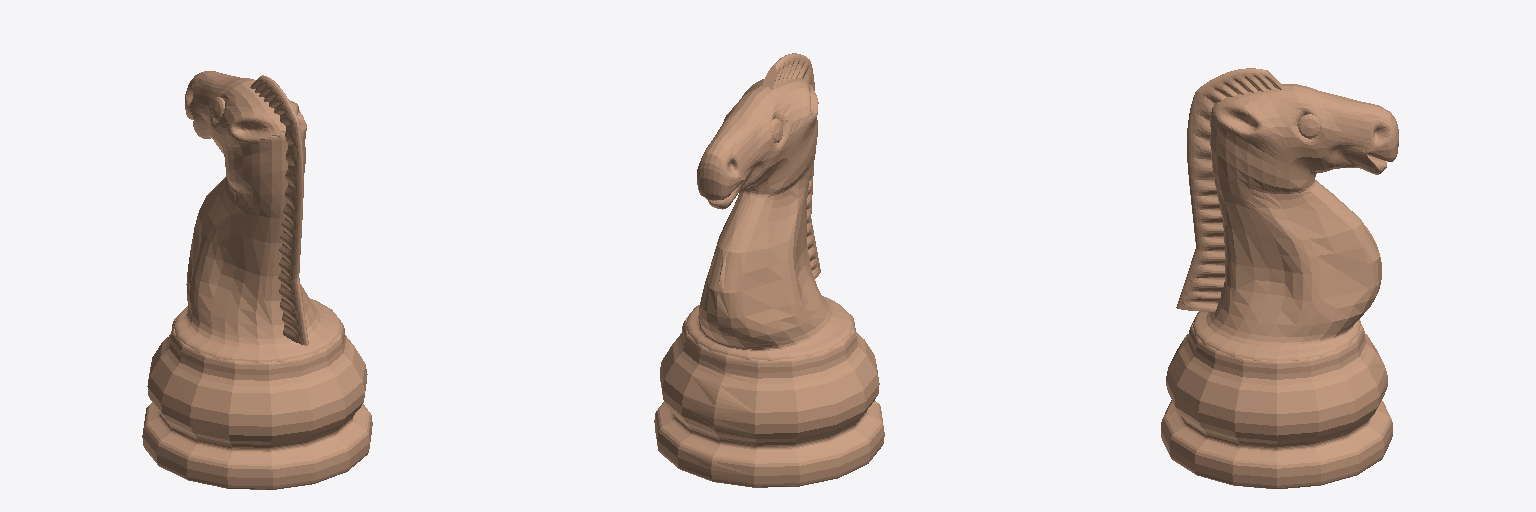
Rendered from caballoB_ficha.obj.
3 views of the same model, side by side, from view 1: azimuth 30°, elevation 25°; view 2: azimuth 150°, elevation 25°; view 3: azimuth 270°, elevation 25° (orthographic).
Parts seen in each view (by area): view 1: only_horse_revolvedSurface4, only_horse_nurbsCylinder5, only_horse_nurbsCylinder6; view 2: only_horse_nurbsCylinder5, only_horse_revolvedSurface4, only_horse_nurbsCylinder6; view 3: only_horse_nurbsCylinder5, only_horse_revolvedSurface4, only_horse_nurbsCylinder6.
Boxes of the visible parts, x1=… form: only_horse_revolvedSurface4: x1=142, y1=309, x2=372, y2=489; only_horse_nurbsCylinder5: x1=173, y1=71, x2=341, y2=362; only_horse_nurbsCylinder6: x1=250, y1=75, x2=308, y2=345; only_horse_nurbsCylinder5: x1=685, y1=77, x2=853, y2=360; only_horse_revolvedSurface4: x1=654, y1=306, x2=884, y2=487; only_horse_nurbsCylinder6: x1=772, y1=53, x2=820, y2=278; only_horse_nurbsCylinder5: x1=1193, y1=84, x2=1398, y2=360; only_horse_revolvedSurface4: x1=1161, y1=312, x2=1392, y2=488; only_horse_nurbsCylinder6: x1=1176, y1=68, x2=1281, y2=312.
Bounding box in the file's own units: 4.09 × 7.27 × 4.2.